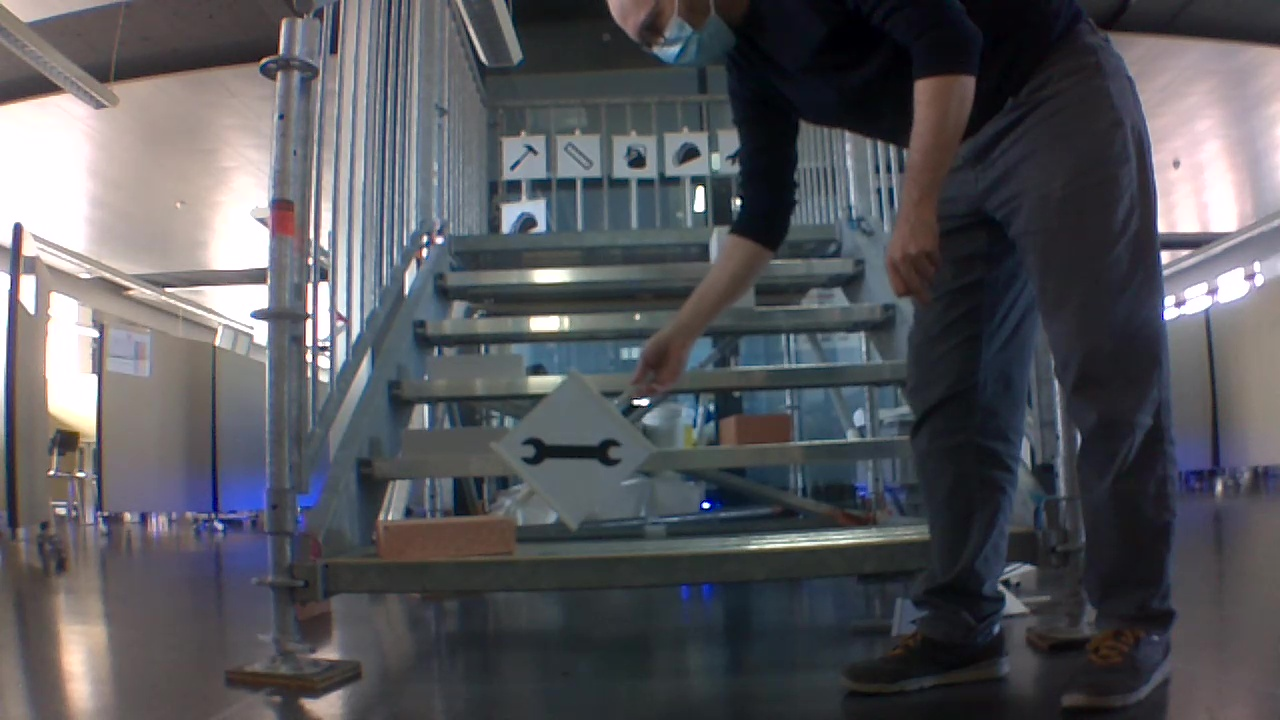brick: (376, 517, 511, 555), (402, 426, 491, 463), (427, 353, 524, 379), (720, 415, 790, 444)
bucket: (617, 137, 650, 170)
hammer: (502, 140, 542, 172)
ruler: (562, 139, 593, 174)
taco: (505, 204, 541, 234), (667, 137, 701, 168)
wrench: (517, 429, 623, 475)
